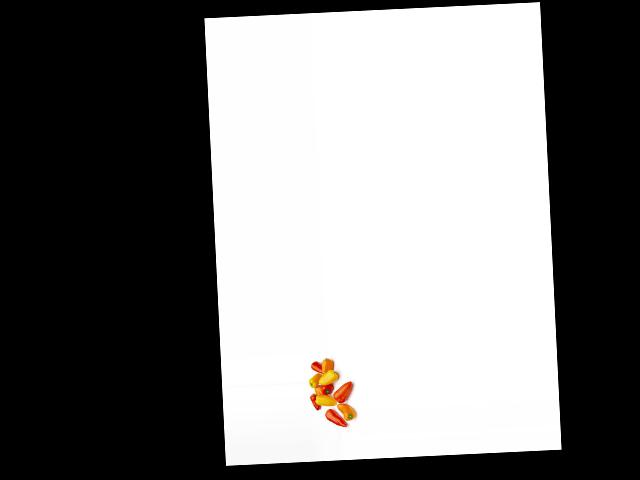bell_pepper: (309, 392, 319, 412)
